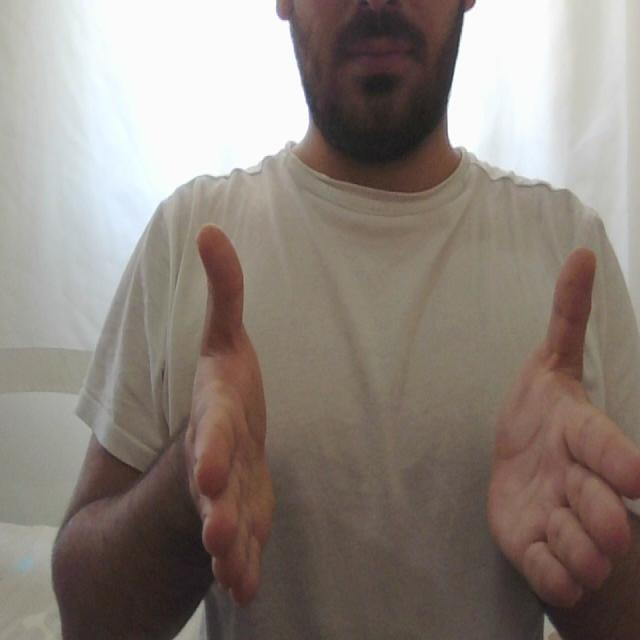Nasil: (164, 220, 640, 609)
